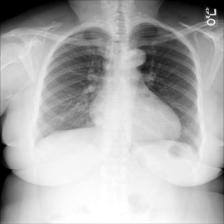normal: (35, 15, 204, 157)
